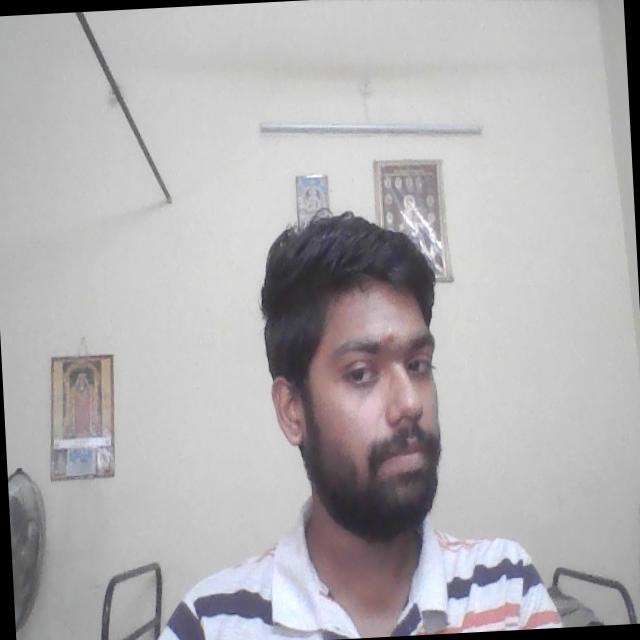Focused: (283, 292, 445, 508)
